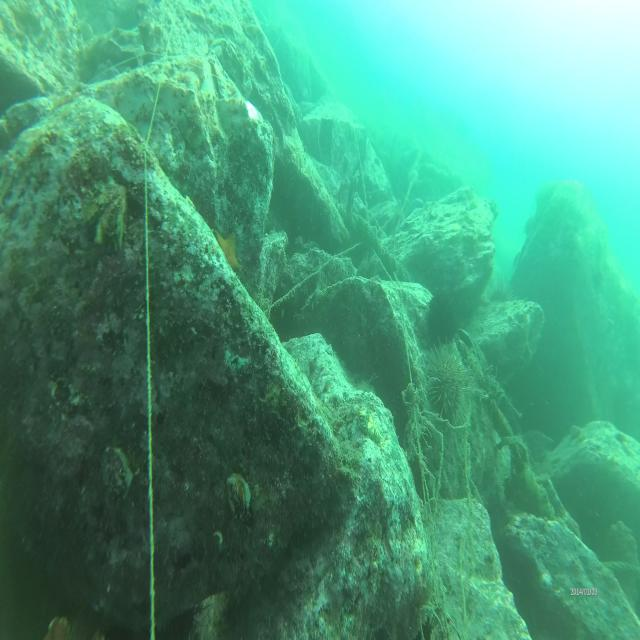echinus: (424, 343, 466, 419), (428, 295, 455, 339)
starfish: (212, 225, 244, 276)
